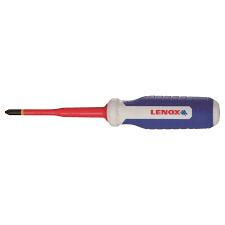screwdriver: (4, 93, 219, 129)
